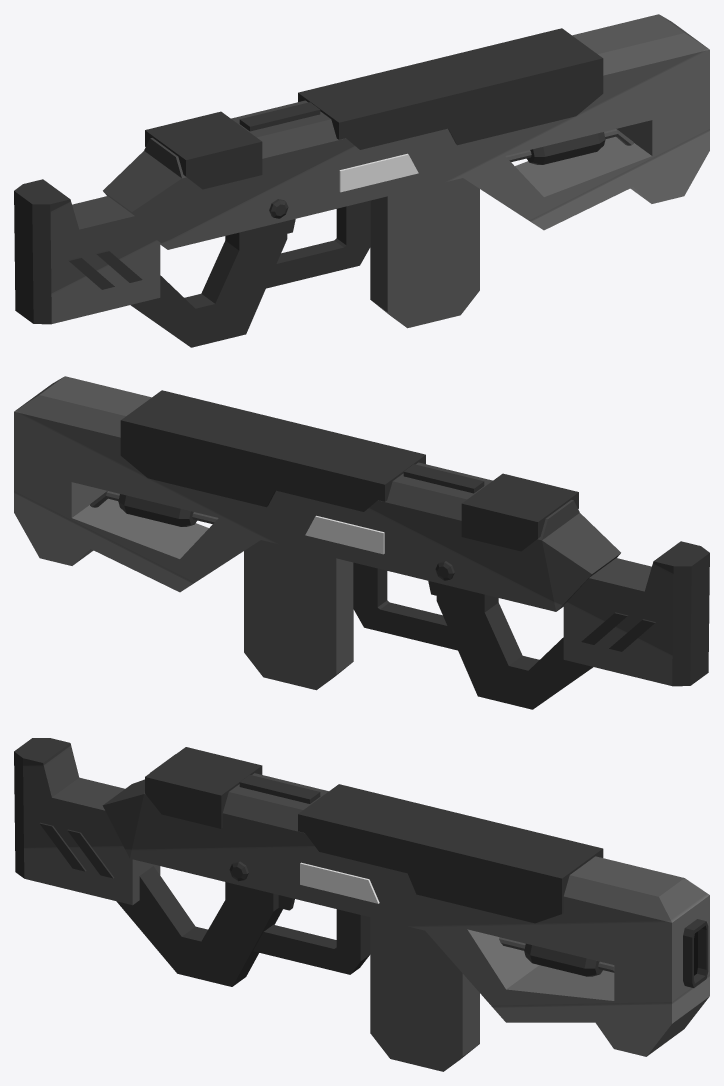
The model's file is Rifle_Pulse_A_V2.FBX.
3 renders of one model, top to bottom at view 1: azimuth 30°, elevation 25°; view 2: azimuth 150°, elevation 25°; view 3: azimuth 330°, elevation 25°, orthographic.
Parts seen in each view (by area): view 1: Rifle_Pulse_A_V2, Magazine; view 2: Rifle_Pulse_A_V2, Magazine; view 3: Rifle_Pulse_A_V2, Magazine.
Boxes of the visible parts, x1,y1,x2,y2 form: Rifle_Pulse_A_V2: [14, 14, 709, 347]; Magazine: [370, 178, 479, 328]; Rifle_Pulse_A_V2: [14, 376, 709, 709]; Magazine: [244, 540, 353, 690]; Rifle_Pulse_A_V2: [14, 738, 709, 1056]; Magazine: [370, 917, 479, 1071].
Bounding box in the file's own units: 411 × 137 × 45.63.
